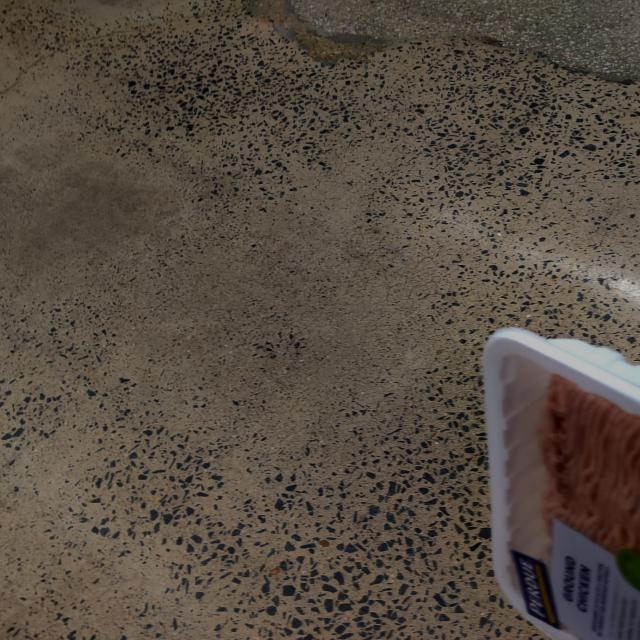Meat: (491, 335, 640, 640)
